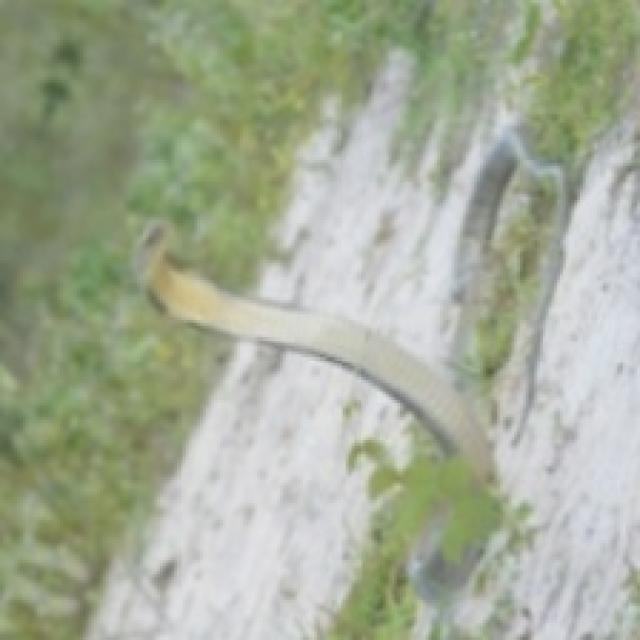king cobra: (137, 226, 491, 489), (140, 226, 491, 483)
